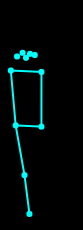tree: (1, 48, 54, 220)
